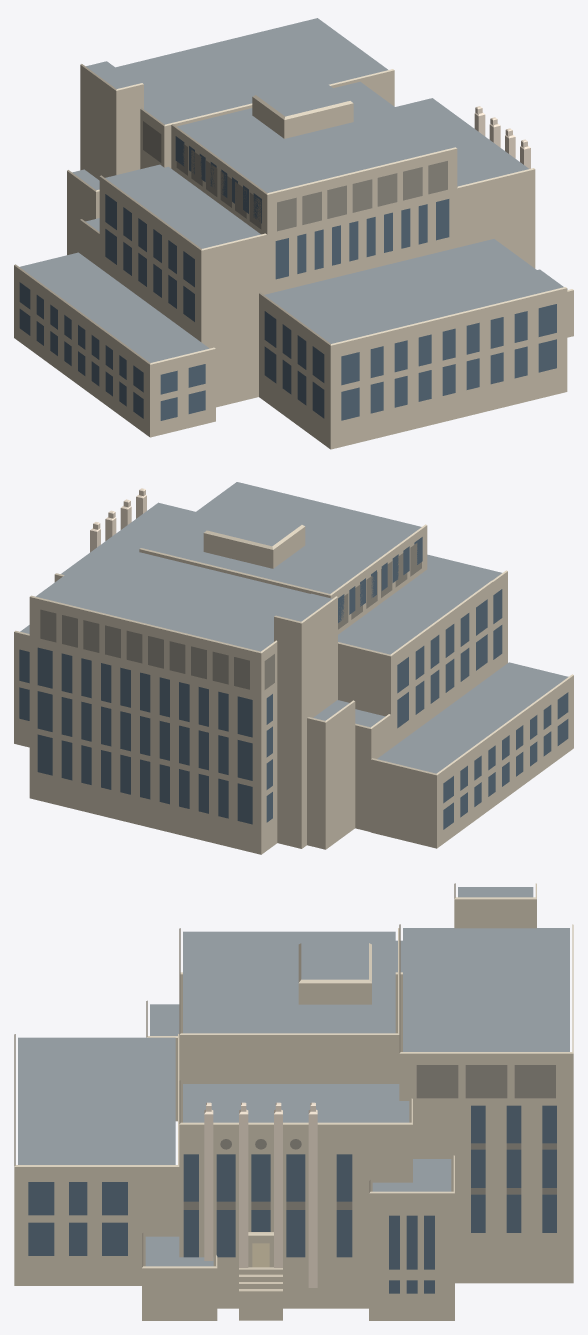
The model's file is atx-travis-county-courthouse.glb.
3 views of the same model, one above another, from view 1: azimuth 30°, elevation 25°; view 2: azimuth 150°, elevation 25°; view 3: azimuth 270°, elevation 25° (orthographic). The views are drawn at different scales.
Visible parts, largest first — view 1: Heman Marion Sweatt Travis County Courthouse; view 2: Heman Marion Sweatt Travis County Courthouse; view 3: Heman Marion Sweatt Travis County Courthouse.
Boxes of the visible parts, x1,y1,x2,y2 form: Heman Marion Sweatt Travis County Courthouse: (14,18,573,449); Heman Marion Sweatt Travis County Courthouse: (14,482,573,854); Heman Marion Sweatt Travis County Courthouse: (14,883,573,1320).
Bounding box in the file's own units: 61.1 × 31.1 × 61.1.
